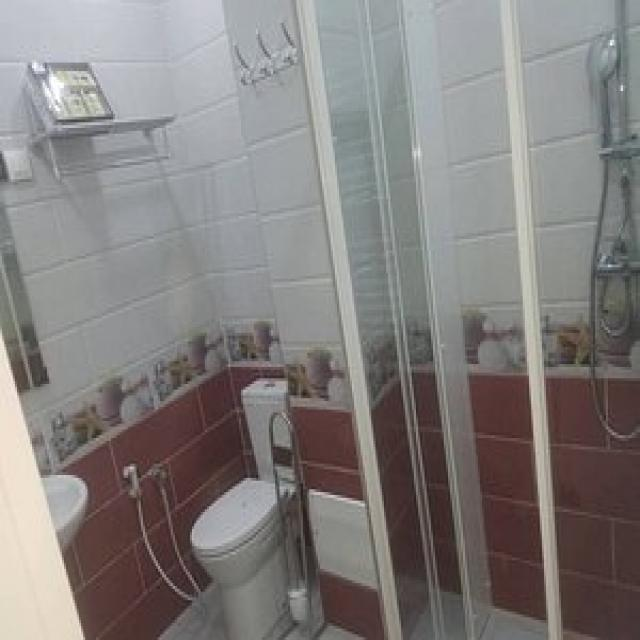toilet: (177, 459, 299, 601)
